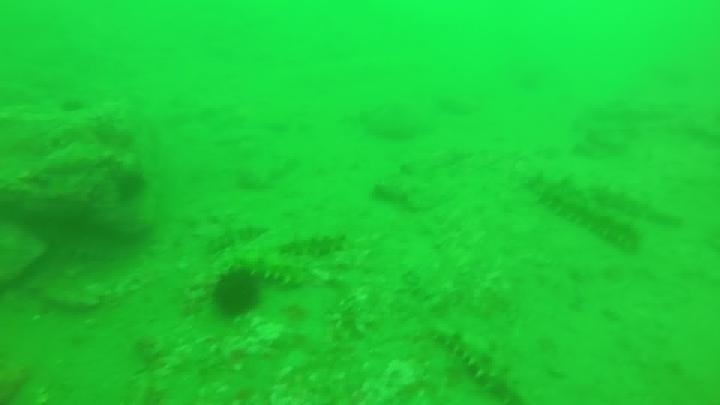echinus: (209, 266, 263, 321), (112, 168, 149, 204)
holothurian: (524, 169, 643, 253), (432, 323, 527, 404), (587, 181, 684, 228), (220, 252, 314, 290), (194, 218, 270, 255), (276, 229, 351, 261)
